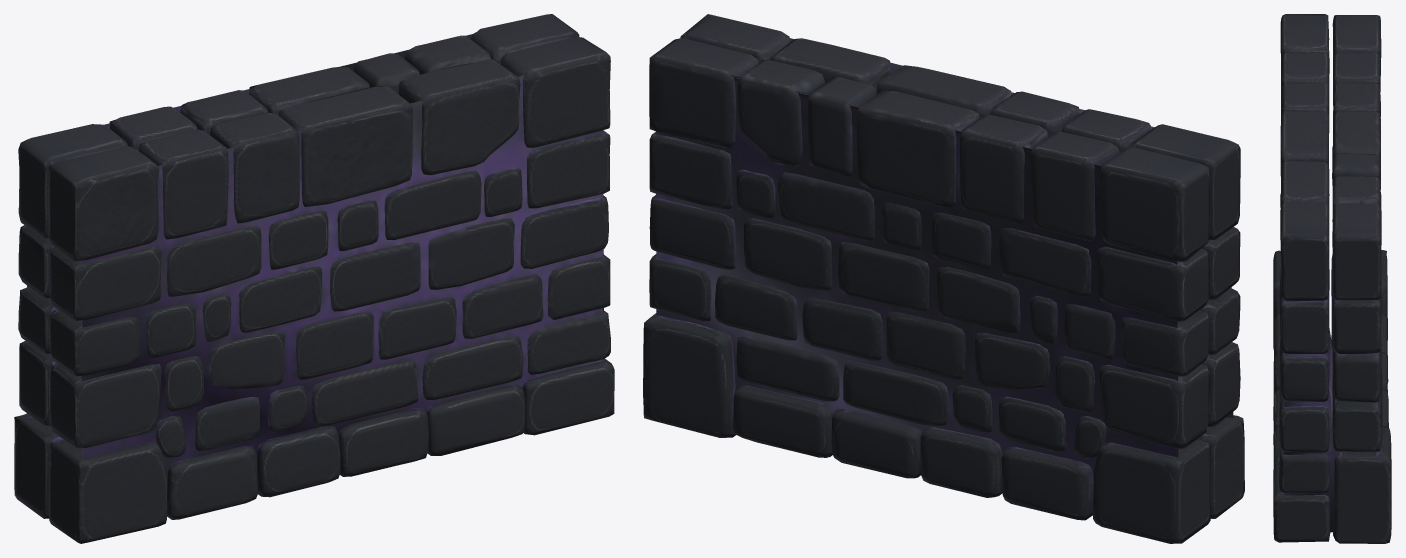
Rendered from wall_straight_meshy.glb.
3 renders of one model, left to right at view 1: azimuth 30°, elevation 25°; view 2: azimuth 150°, elevation 25°; view 3: azimuth 270°, elevation 25°, orthographic. The views are drawn at different scales.
Parts seen in each view (by area): view 1: mesh_node; view 2: mesh_node; view 3: mesh_node.
Part boxes in pixels (left/top/right/bottom): mesh_node: left=14, top=14, right=614, bottom=543; mesh_node: left=643, top=14, right=1244, bottom=543; mesh_node: left=1273, top=14, right=1391, bottom=543.
Size of the model in its own units: 1 by 0.6543 by 0.2256.
Materials: 1 (1 with a texture image).
